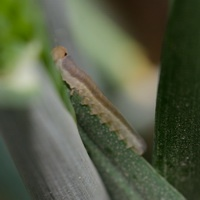insect: (52, 46, 184, 199), (51, 46, 145, 154)
